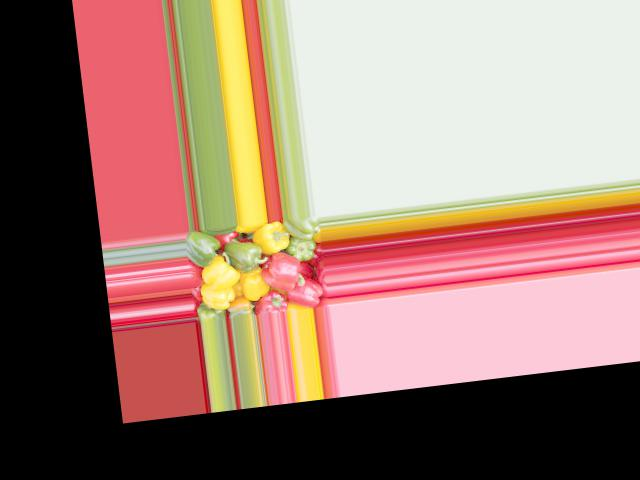bell_pepper: (197, 302, 229, 321)
